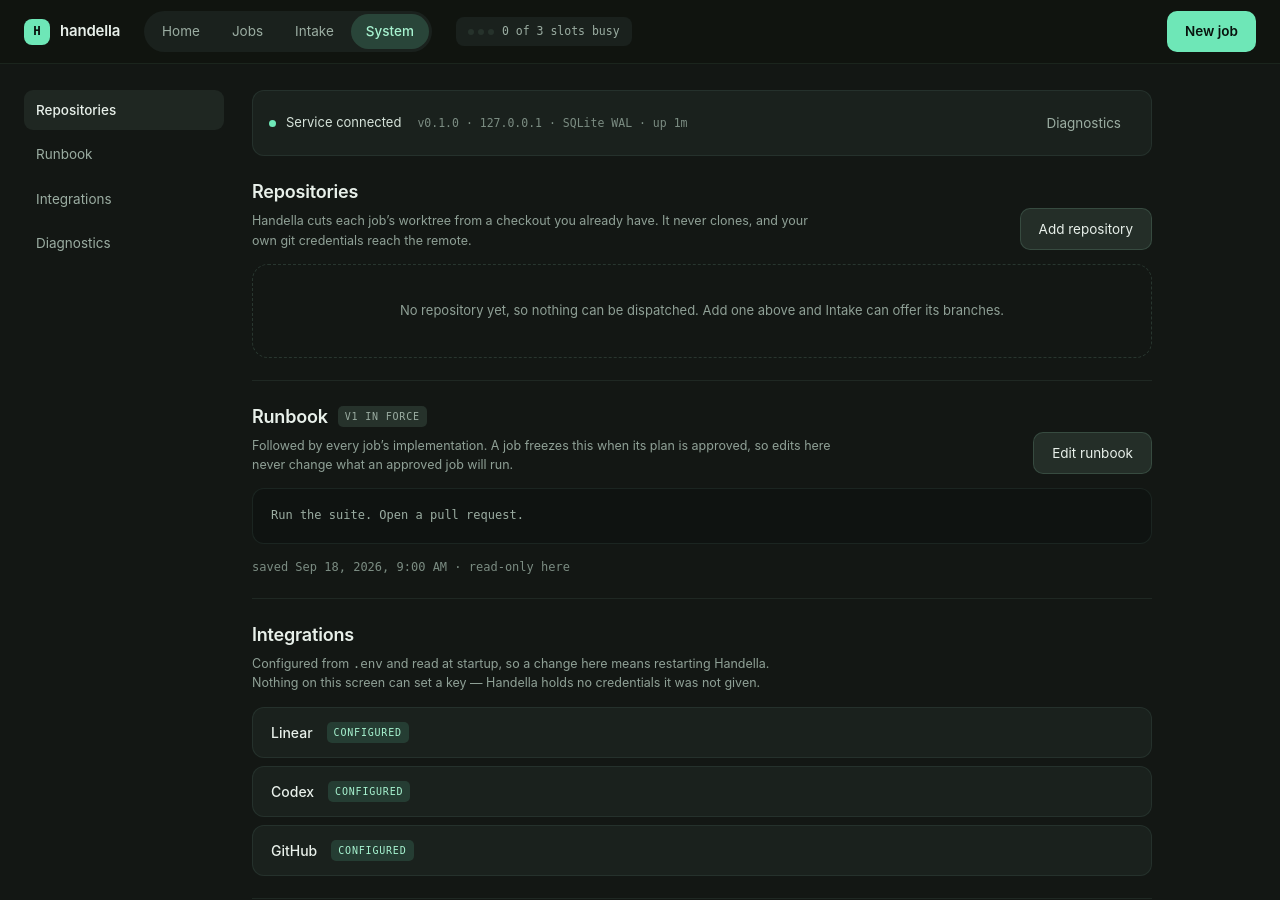
it: repository settings › refuses to submit a relative path
Click the button "Add repository" at (1086, 229), box [1020,208,1152,250]
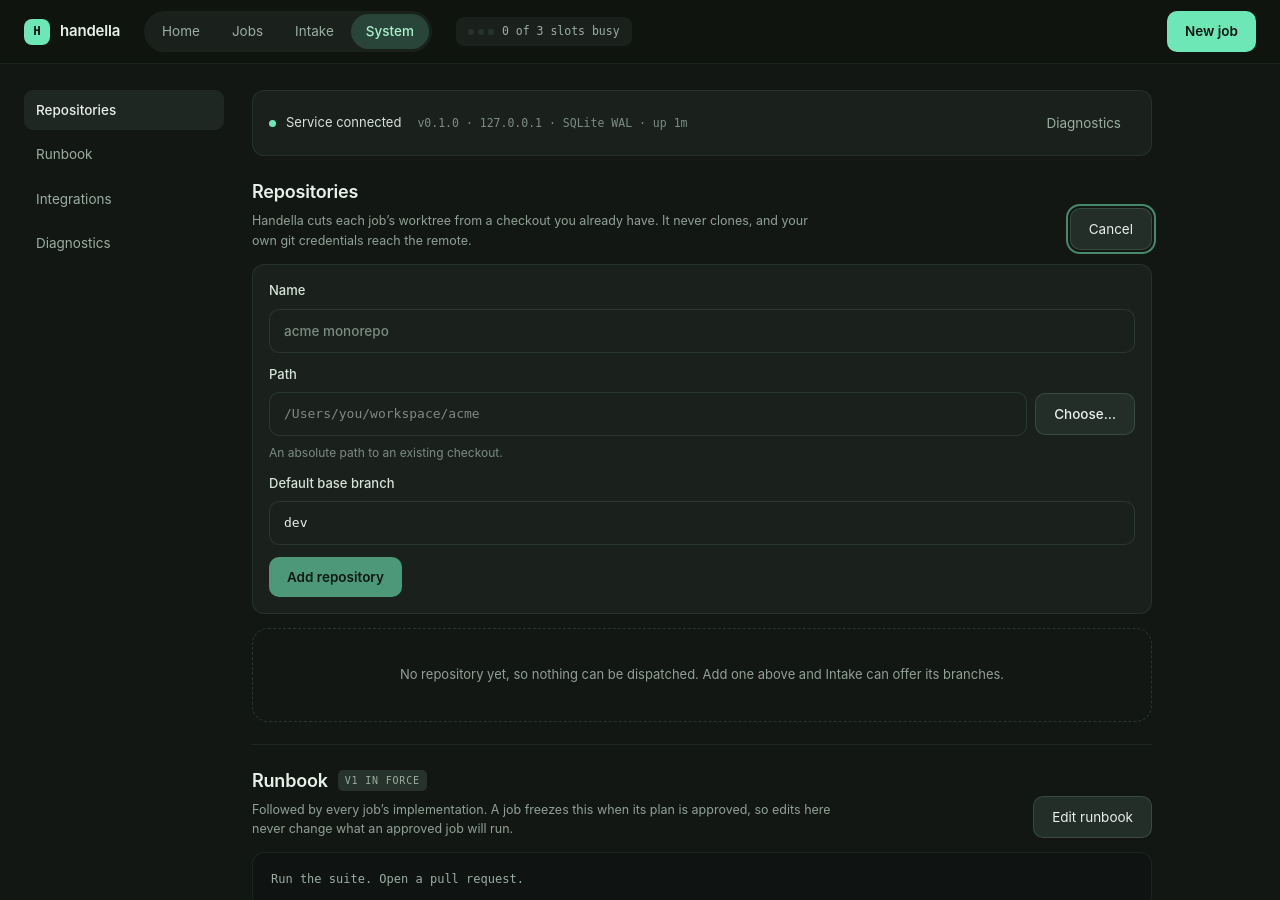
Type "acme" into the field labelled "Name" at (702, 331), box [269,308,1135,353]
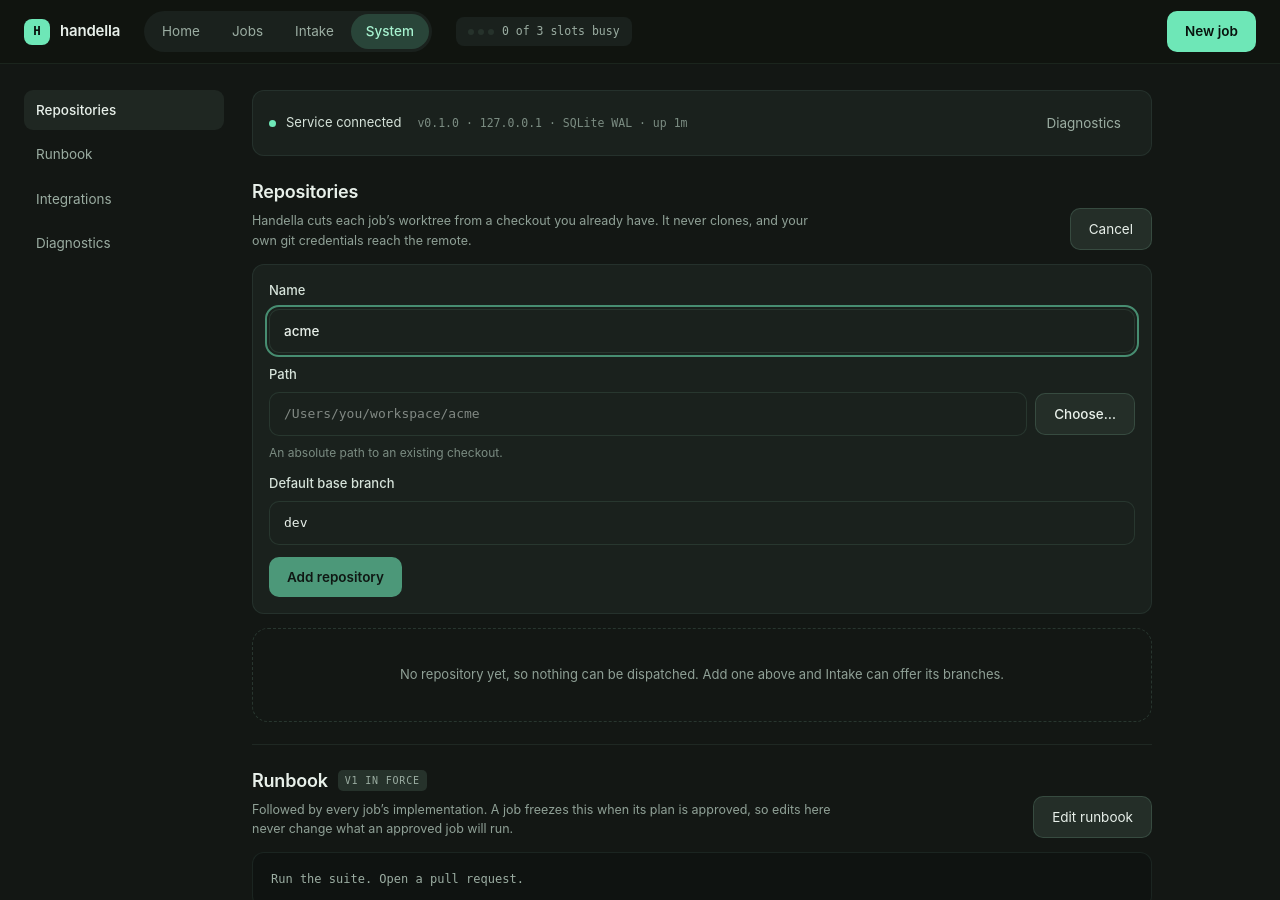
Type "../acme" into the field labelled "Path" at (648, 414), box [269,392,1027,436]
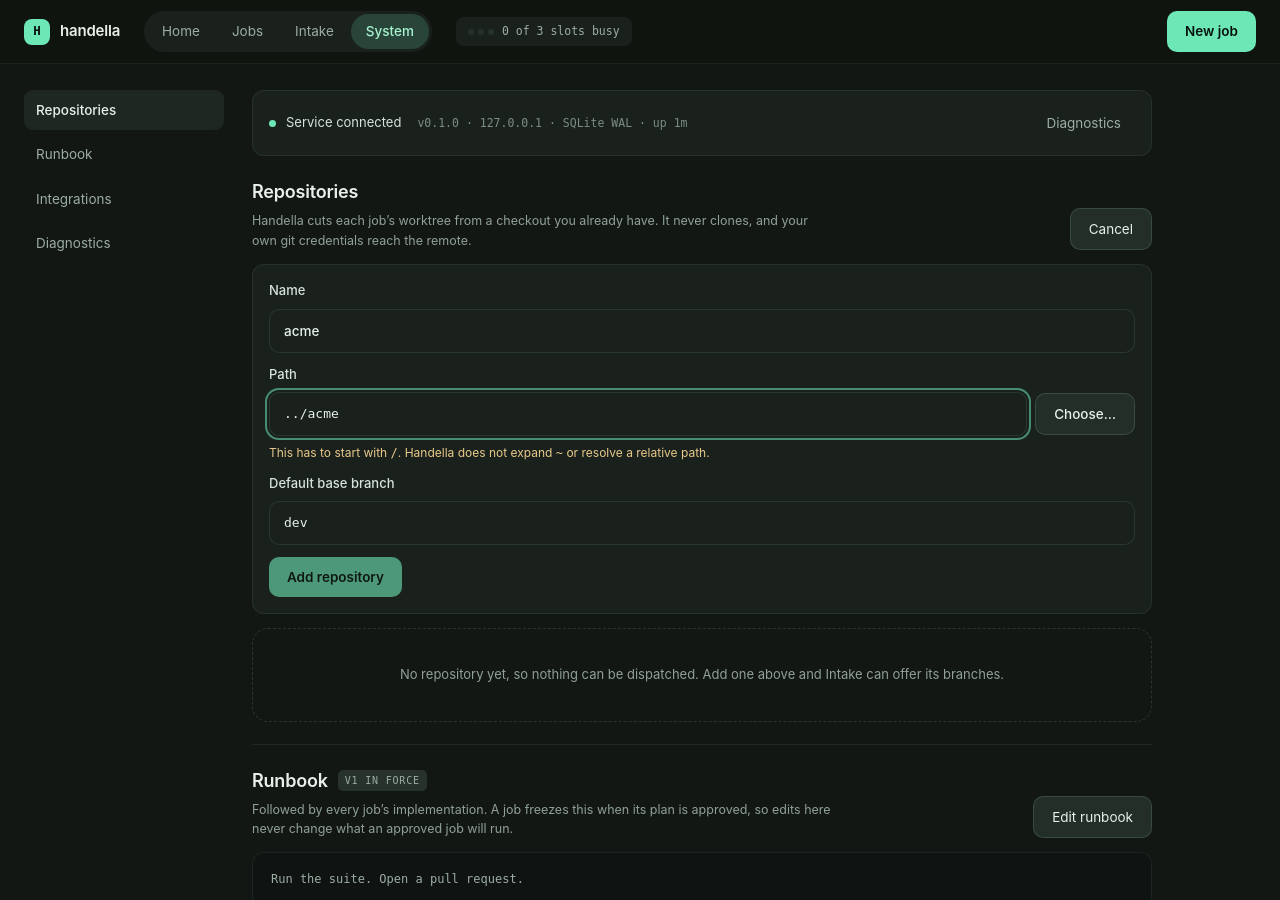
Expected: the button "Add repository" is disabled, [269,557,402,597]
Expected: the message shows "This has to start with /", [269,445,710,460]
